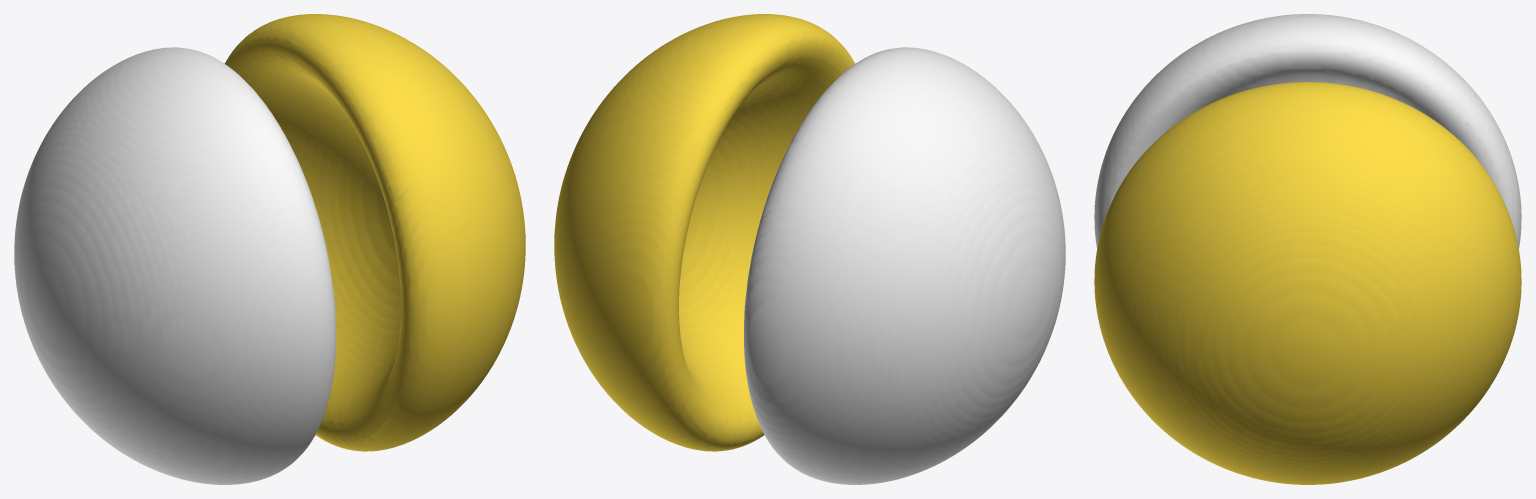
3 renders of one model, left to right at view 1: azimuth 30°, elevation 25°; view 2: azimuth 150°, elevation 25°; view 3: azimuth 270°, elevation 25°, orthographic. The views are drawn at different scales.
Parts seen in each view (by area): view 1: p_px; view 2: p_px; view 3: p_px.
Boxes of the visible parts, x1,y1,x2,y2 form: p_px: [14, 14, 525, 484]; p_px: [554, 14, 1065, 484]; p_px: [1094, 14, 1521, 484].
Size of the model in its own units: 2 by 1.72 by 1.72.
